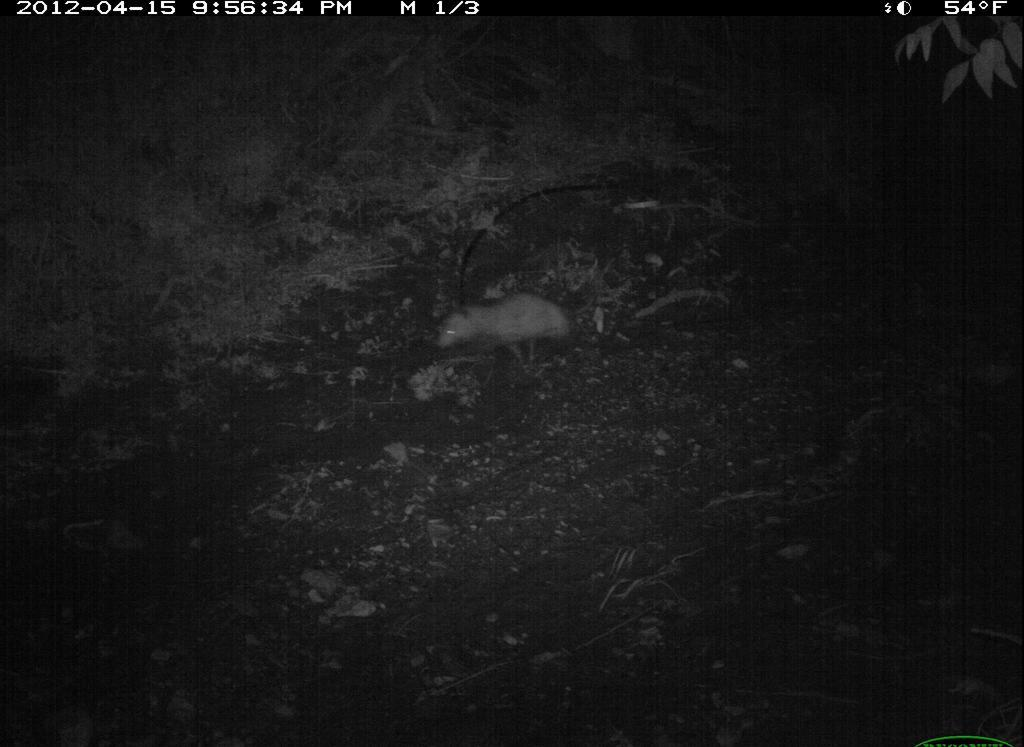opossum: (432, 295, 605, 370)
